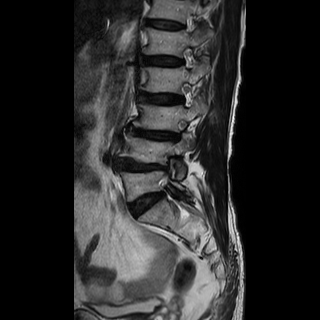RFS0: (173, 43, 202, 80), (170, 78, 199, 113)
